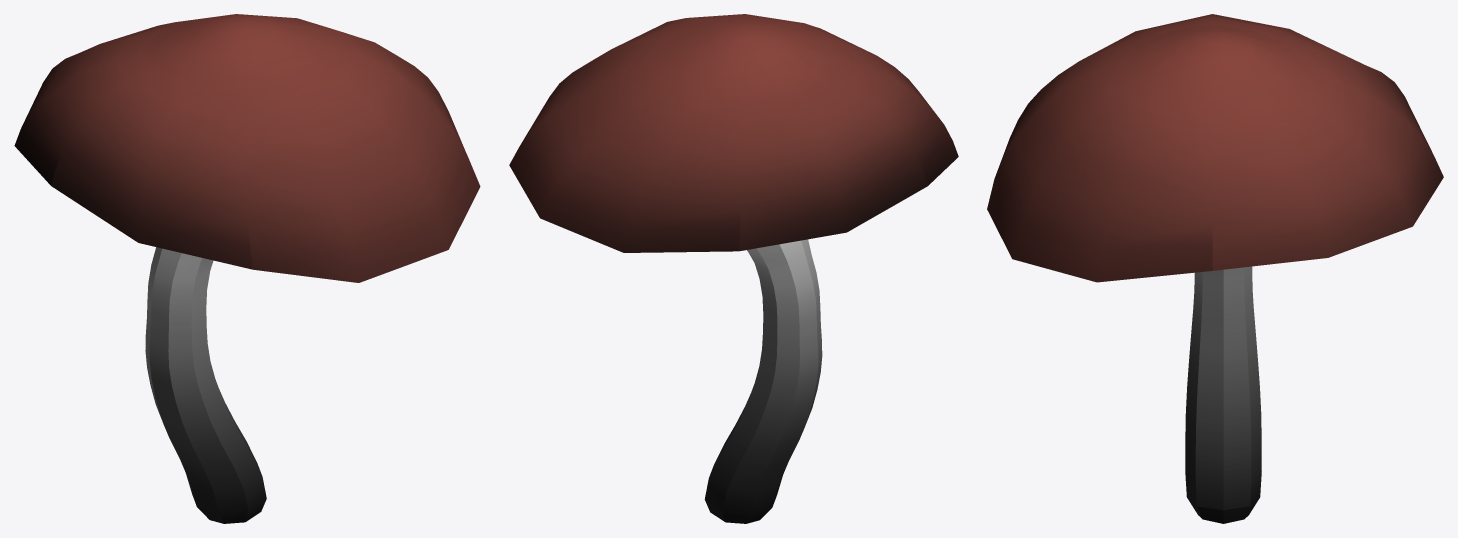
File: mushroom12.fbx
3 views of the same model, side by side, from view 1: azimuth 30°, elevation 25°; view 2: azimuth 150°, elevation 25°; view 3: azimuth 270°, elevation 25° (orthographic). The views are drawn at different scales.
Parts seen in each view (by area): view 1: mushroom2; view 2: mushroom2; view 3: mushroom2.
Part boxes in pixels (left/top/right/bottom): mushroom2: left=14, top=14, right=480, bottom=523; mushroom2: left=509, top=14, right=958, bottom=523; mushroom2: left=987, top=14, right=1443, bottom=523.
Size of the model in its own units: 60.6 by 71.96 by 62.
